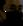with_mask: (1, 1, 23, 26)
